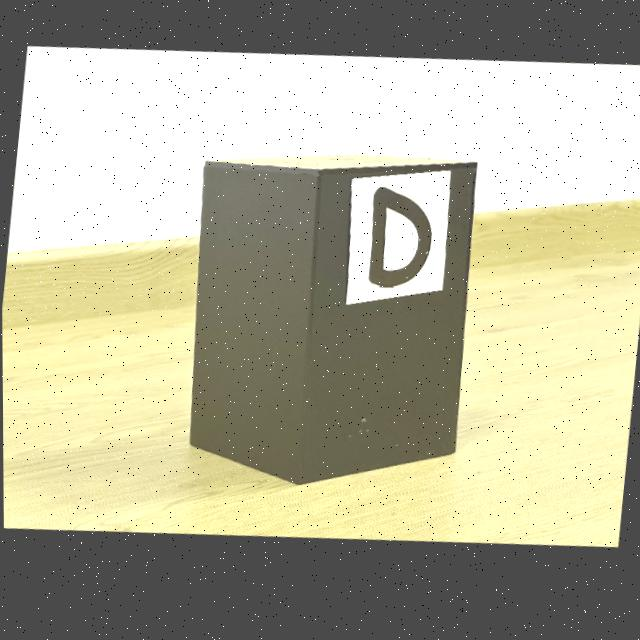D: (367, 193, 431, 293)
